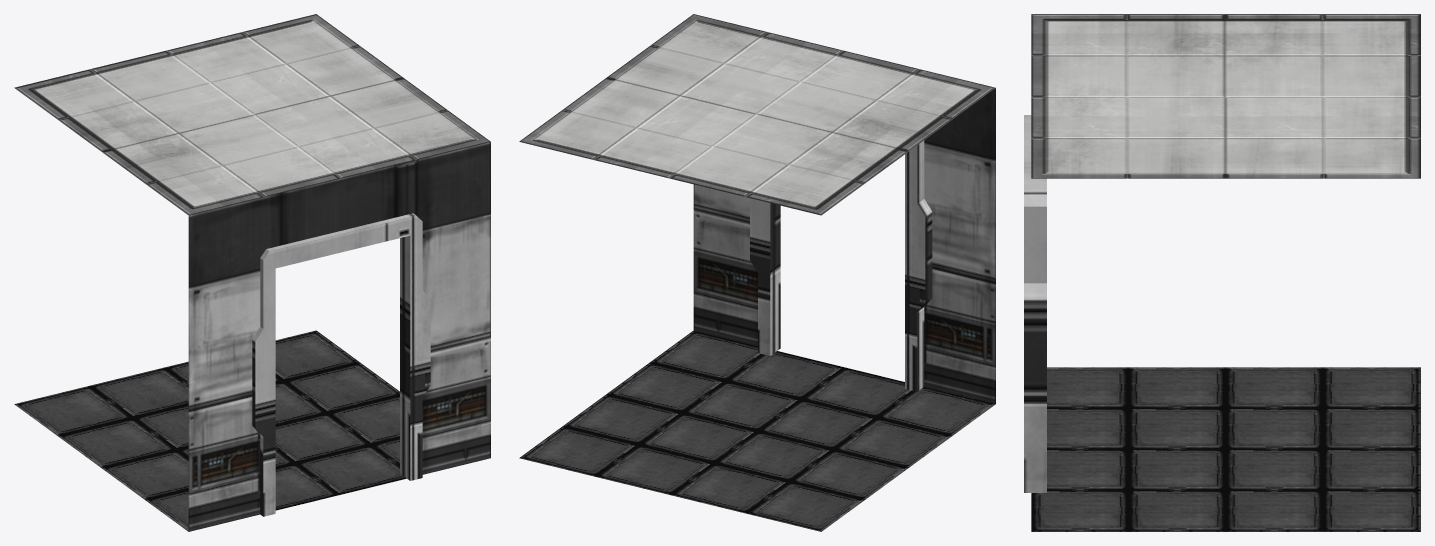
Rendered from RoomWall1.fbx.
3 renders of one model, left to right at view 1: azimuth 30°, elevation 25°; view 2: azimuth 150°, elevation 25°; view 3: azimuth 270°, elevation 25°, orthographic. The views are drawn at different scales.
Visible parts, largest first — view 1: RoomWall1; view 2: RoomWall1; view 3: RoomWall1.
Boxes of the visible parts, bbox=[...] form: RoomWall1: bbox=[14, 14, 490, 531]; RoomWall1: bbox=[519, 14, 995, 531]; RoomWall1: bbox=[1024, 14, 1420, 531].
Bounding box in the file's own units: 5 × 5 × 5.09.
